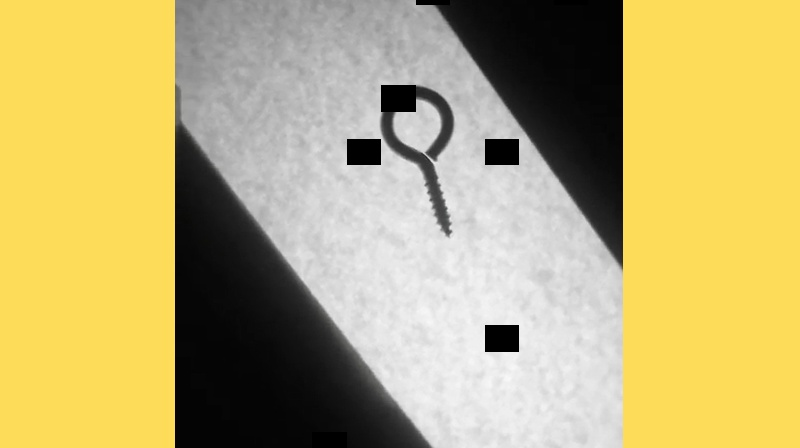O001: (375, 81, 455, 239)
